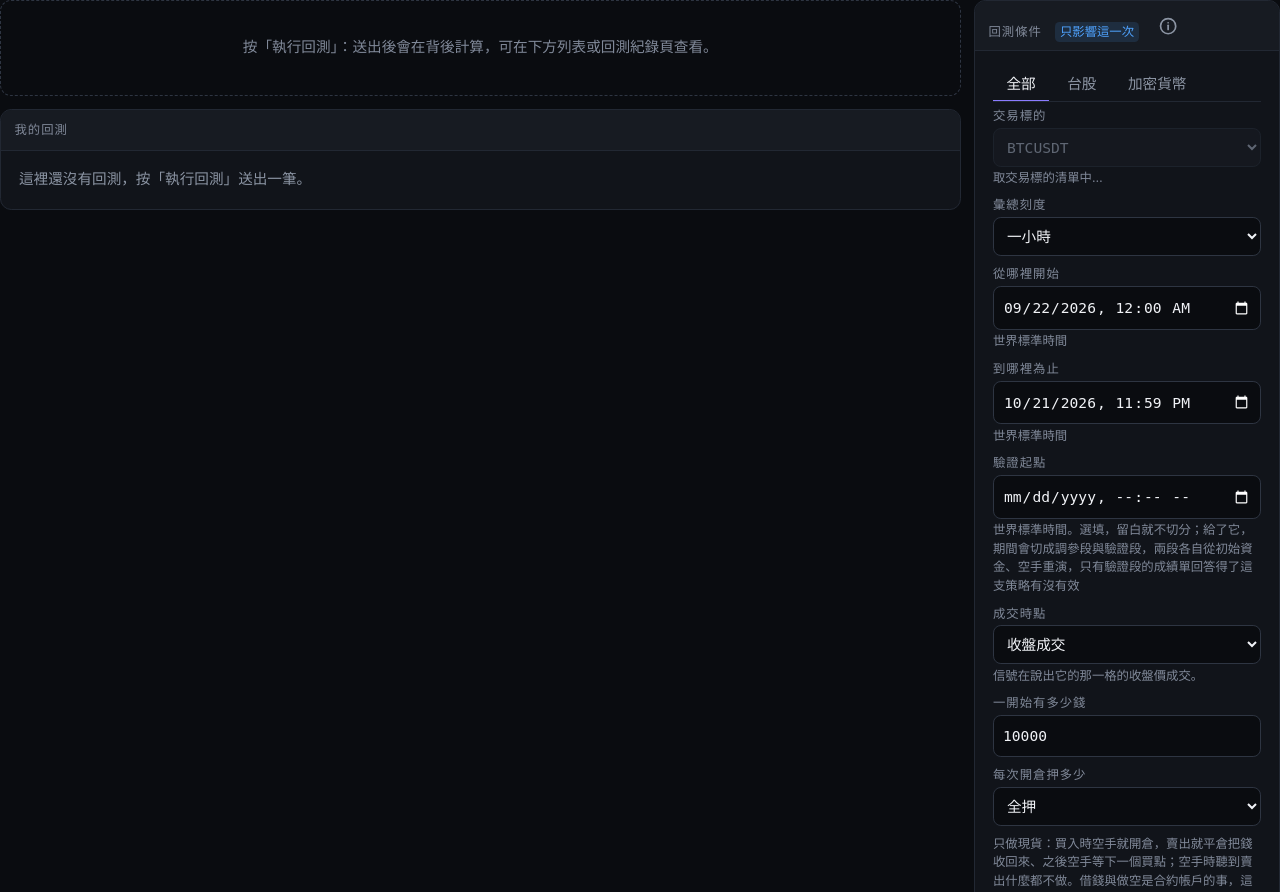
Test: StrategyScriptBacktestPane › 回測照什麼規則走 › 按下那顆鍵就把規則攤開來
Click the button with test id "backtest-rule-guide-button".
click(1168, 26)  # box left=1148, top=6, right=1188, bottom=46
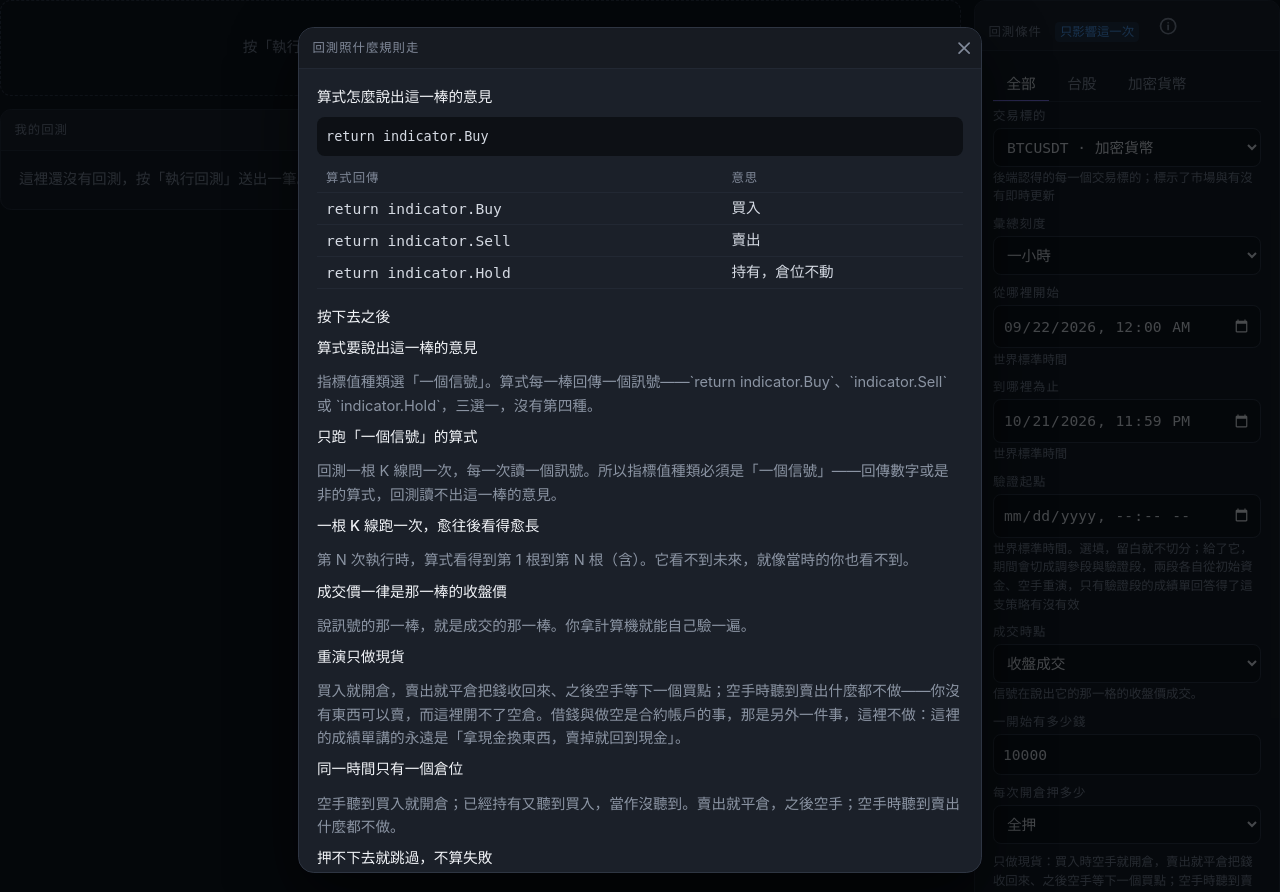
Now the text "算式要說出這一棒的意見" is shown, box left=317, top=339, right=478, bottom=357
